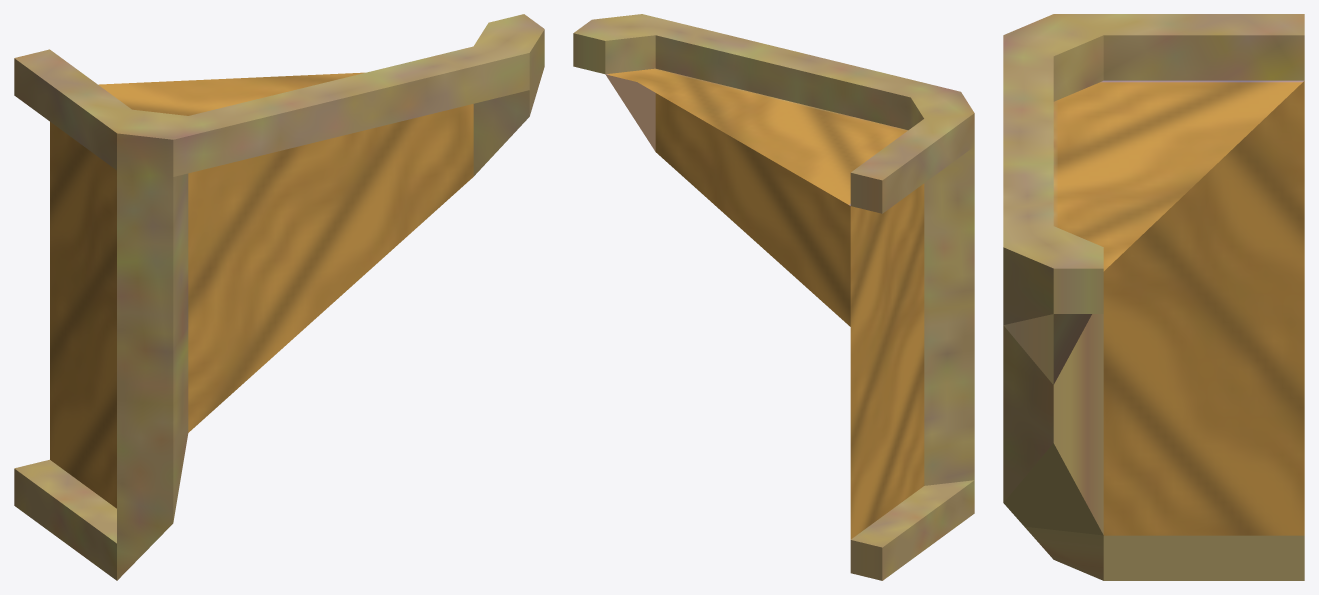
The model's file is crate_shattered_0.glb.
The picture shows the model from 3 angles, left to right: view 1: azimuth 30°, elevation 25°; view 2: azimuth 150°, elevation 25°; view 3: azimuth 270°, elevation 25°; orthographic projection. The views are drawn at different scales.
Parts seen in each view (by area): view 1: BoltCrateSplinter0; view 2: BoltCrateSplinter0; view 3: BoltCrateSplinter0.
Boxes of the visible parts, left/top/right/bottom form: BoltCrateSplinter0: left=14, top=14, right=544, bottom=580; BoltCrateSplinter0: left=573, top=14, right=974, bottom=580; BoltCrateSplinter0: left=1003, top=14, right=1304, bottom=580.
Bounding box in the file's own units: 1.2 × 1.2 × 0.6.
Materials: 1 (1 with a texture image).
